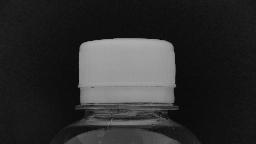Good Cap: (71, 33, 181, 115)
